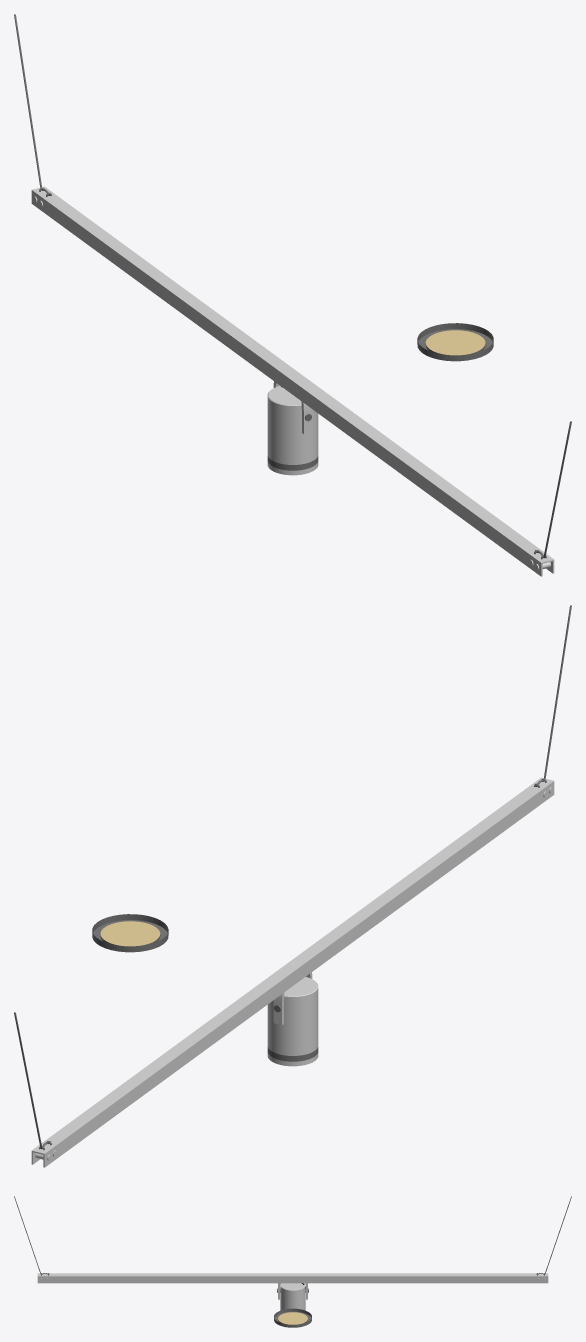
The model's file is lamps.fbx.
3 views of the same model, one above another, from view 1: azimuth 30°, elevation 25°; view 2: azimuth 150°, elevation 25°; view 3: azimuth 270°, elevation 25° (orthographic). The views are drawn at different scales.
Parts seen in each view (by area): view 1: SM_lamp_2_body, SM_lamp_2, SM_lamp_1; view 2: SM_lamp_2_body, SM_lamp_2, SM_lamp_1; view 3: SM_lamp_2_body, SM_lamp_2, SM_lamp_1.
Boxes of the visible parts, x1,y1,x2,y2 form: SM_lamp_2_body: [14, 14, 571, 576]; SM_lamp_2: [267, 386, 318, 475]; SM_lamp_1: [417, 323, 493, 361]; SM_lamp_2_body: [14, 605, 571, 1167]; SM_lamp_2: [267, 977, 318, 1066]; SM_lamp_1: [92, 914, 168, 952]; SM_lamp_2_body: [14, 1196, 571, 1283]; SM_lamp_2: [277, 1283, 308, 1310]; SM_lamp_1: [274, 1308, 311, 1327].
Bounding box in the file's own units: 98.68 × 107 × 437.
